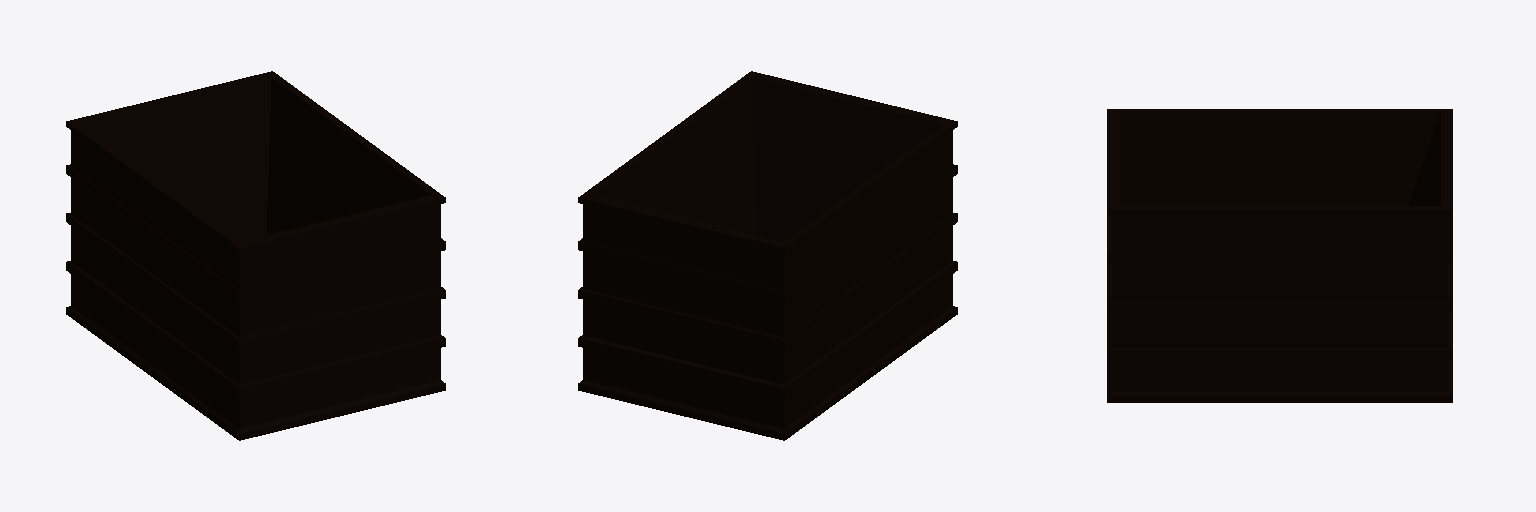
File: Crate.obj
The picture shows the model from 3 angles: view 1: azimuth 30°, elevation 25°; view 2: azimuth 150°, elevation 25°; view 3: azimuth 270°, elevation 25°; orthographic projection.
Parts seen in each view (by area): view 1: Cube; view 2: Cube; view 3: Cube.
Boxes of the visible parts, x1=… form: Cube: x1=66, y1=71, x2=445, y2=440; Cube: x1=578, y1=71, x2=957, y2=440; Cube: x1=1107, y1=109, x2=1452, y2=402.
Bounding box in the file's own units: 3.11 × 2.77 × 4.51.